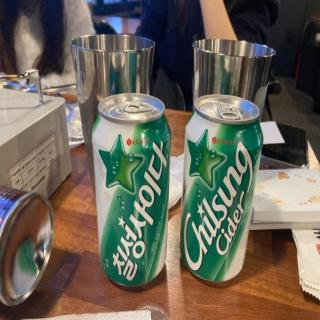cocacola: (92, 89, 173, 292), (181, 92, 265, 285)
